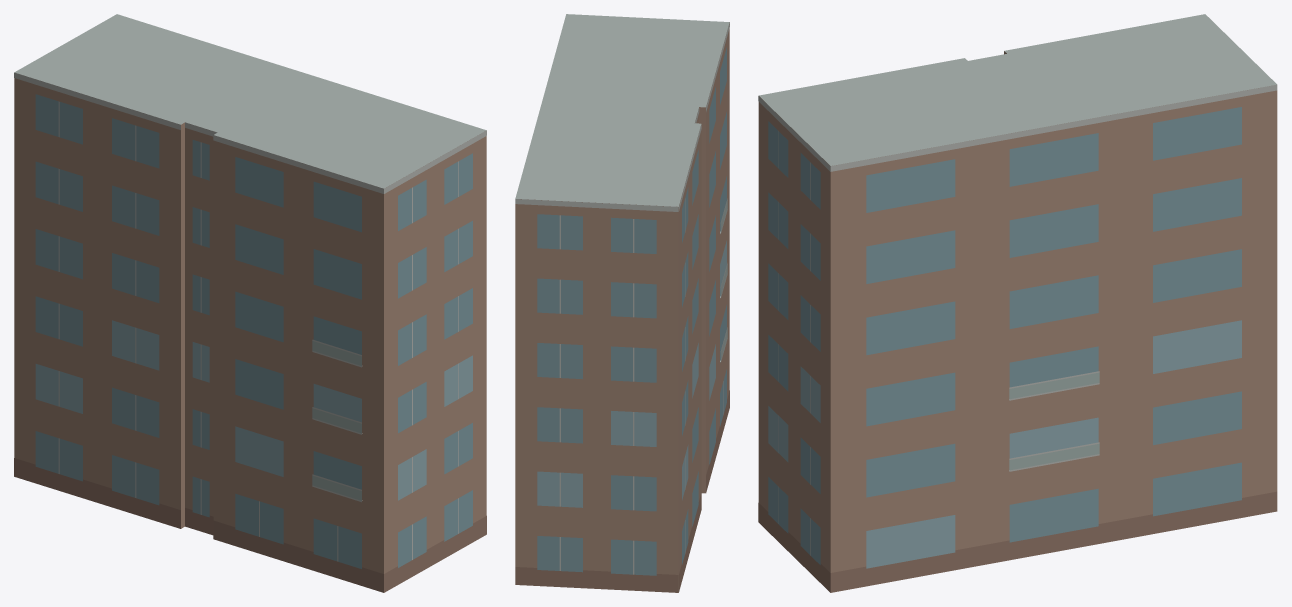
The model's file is survey-upis-32635412.glb.
The picture shows the model from 3 angles, left to right: view 1: azimuth 30°, elevation 25°; view 2: azimuth 150°, elevation 25°; view 3: azimuth 270°, elevation 25°; orthographic projection. The views are drawn at different scales.
Parts seen in each view (by area): view 1: survey-upis-32635412.tmp; view 2: survey-upis-32635412.tmp; view 3: survey-upis-32635412.tmp.
Part boxes in pixels (x1,y1,x2,y2): survey-upis-32635412.tmp: [14, 14, 486, 592]; survey-upis-32635412.tmp: [515, 14, 729, 592]; survey-upis-32635412.tmp: [758, 14, 1277, 592].
Size of the model in its own units: 13.77 by 18 by 19.84.
